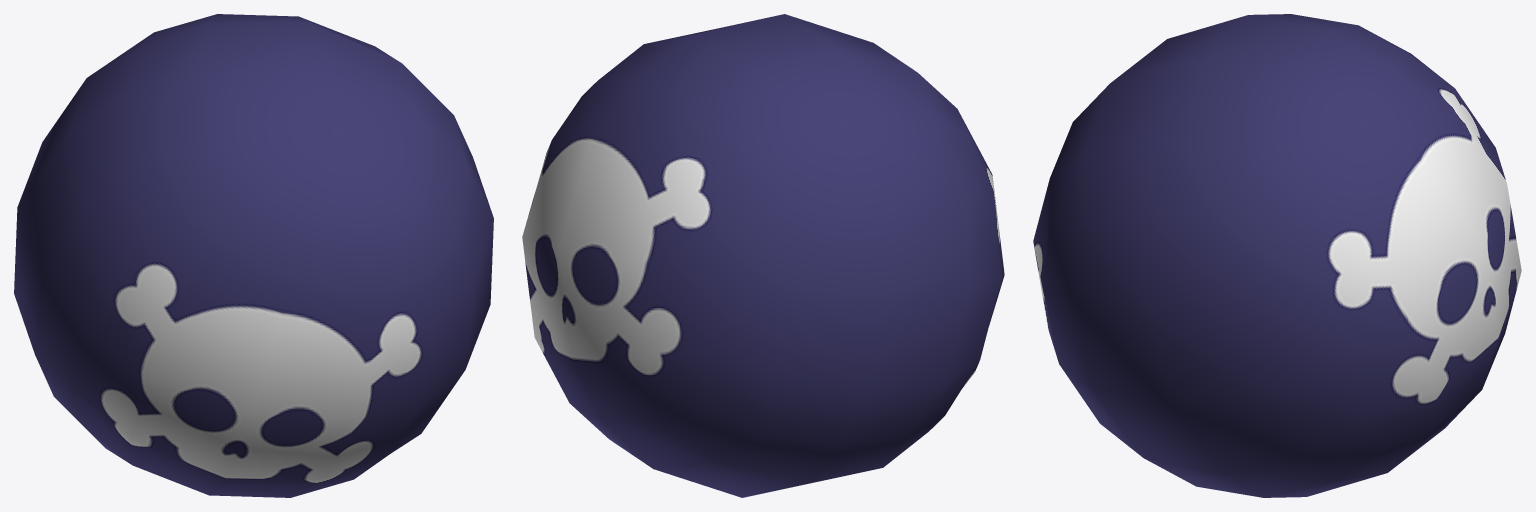
The model's file is bomb.glb.
3 views of the same model, side by side, from view 1: azimuth 30°, elevation 25°; view 2: azimuth 150°, elevation 25°; view 3: azimuth 270°, elevation 25° (orthographic).
Parts seen in each view (by area): view 1: bomb; view 2: bomb; view 3: bomb.
Part boxes in pixels (x1,y1,x2,y2): bomb: (14,14,493,497); bomb: (522,14,1004,497); bomb: (1033,14,1521,497).
Bounding box in the file's own units: 2.62 × 2.55 × 2.63.
1 material, 1 textured.
